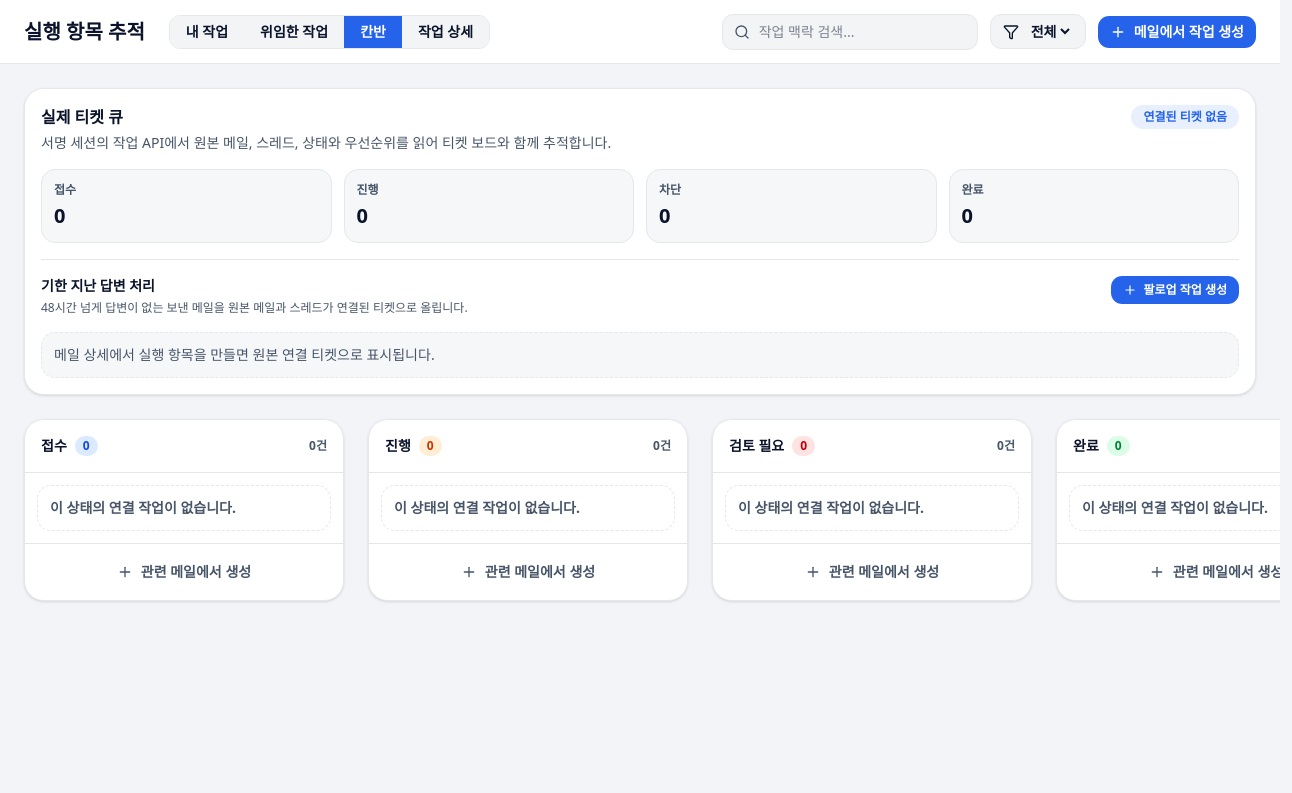
Scenario: TasksPage › creates overdue reply follow-up tasks with signed headers
This screenshot has width=1292, height=793.
Click the button with aria-label "보낸 메일 미답변 팔로업 작업 생성" at x=1175, y=290, box [1112,276,1239,304]
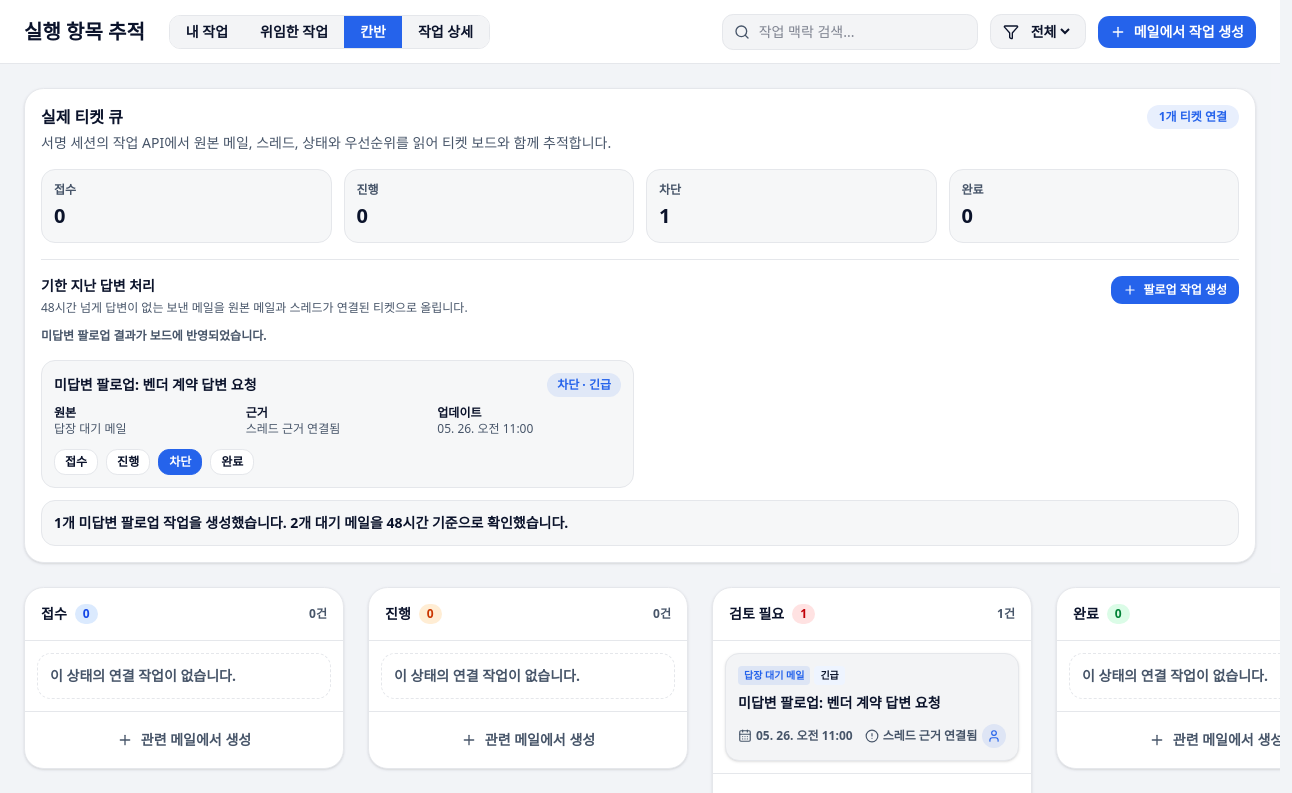
Expected: the text "1개 미답변 팔로업 작업을 생성했습니다. 2개 대기 메일을 48시간 기준으로 확인했습니다." is shown, [41,500,1239,546]
Expected: the text "미답변 팔로업: 벤더 계약 답변 요청" is shown, [54,375,256,395]
Expected: the text "답장 대기 메일" is shown, [54,420,126,437]
